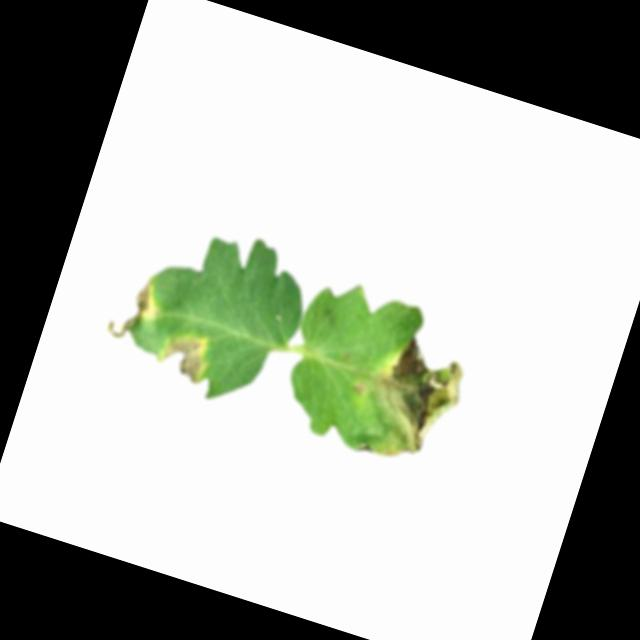Late_blight: (336, 324, 475, 475), (103, 269, 167, 349), (150, 326, 211, 386)
